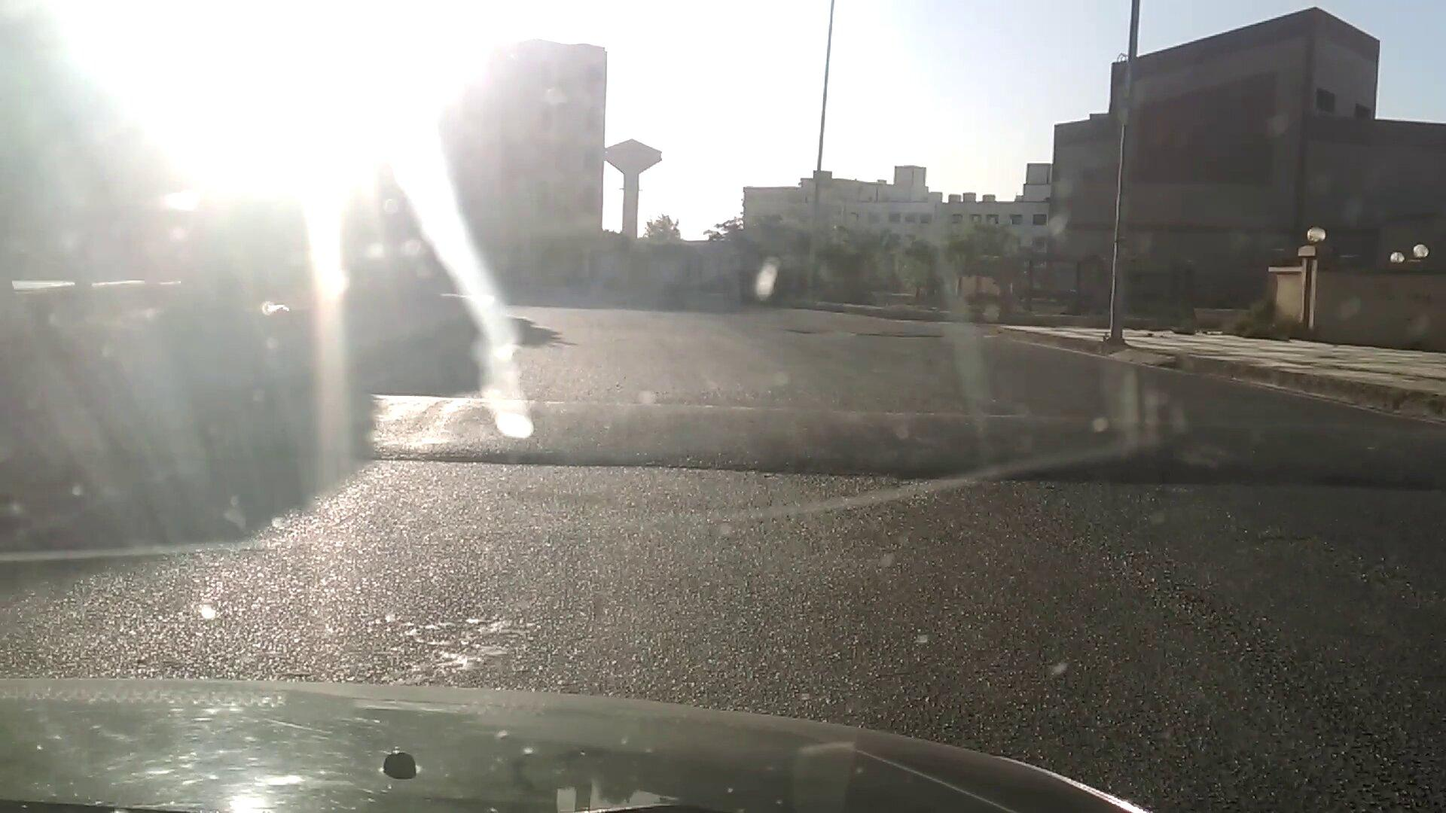Bump: (322, 371, 1446, 501)
